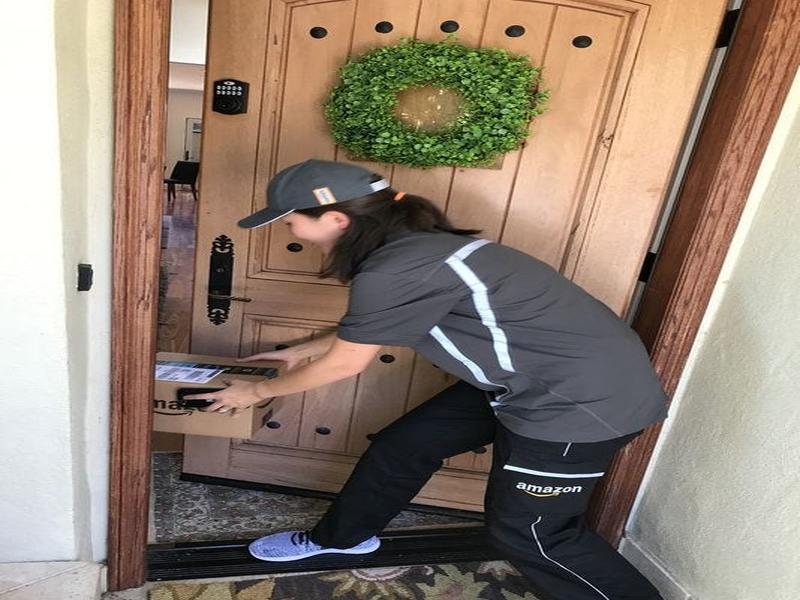package: (152, 345, 295, 445)
